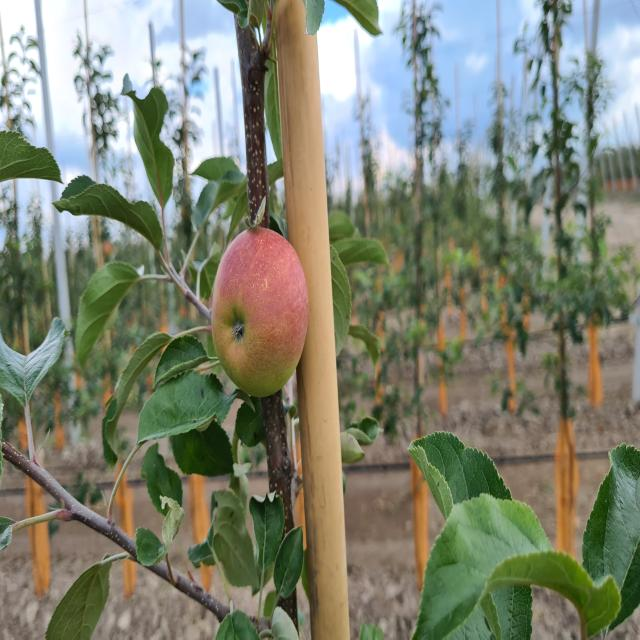Apple: (211, 227, 309, 398)
